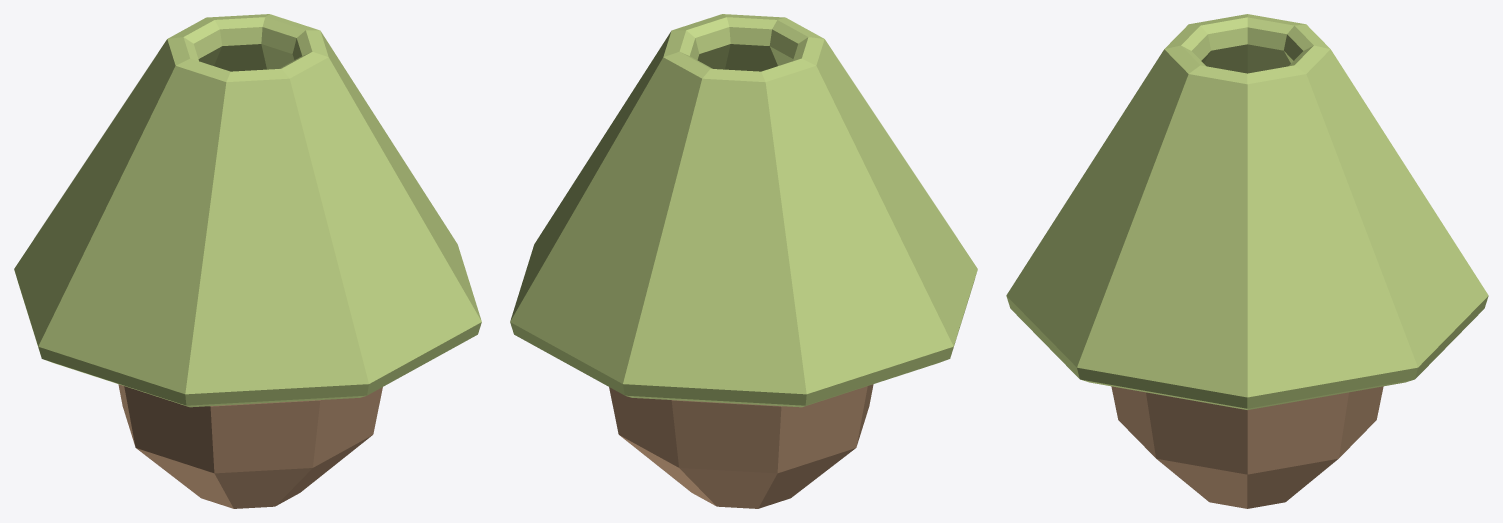
The model's file is Lamp.fbx.
The picture shows the model from 3 angles, left to right: view 1: azimuth 30°, elevation 25°; view 2: azimuth 150°, elevation 25°; view 3: azimuth 270°, elevation 25°; orthographic projection.
Visible parts, largest first — view 1: Lamp; view 2: Lamp; view 3: Lamp.
Boxes of the visible parts, bbox=[...] form: Lamp: bbox=[14, 14, 481, 508]; Lamp: bbox=[510, 14, 977, 508]; Lamp: bbox=[1006, 14, 1488, 508].
Size of the model in its own units: 0.3771 by 0.3801 by 0.3771.
Materials: 1 (1 with a texture image).
